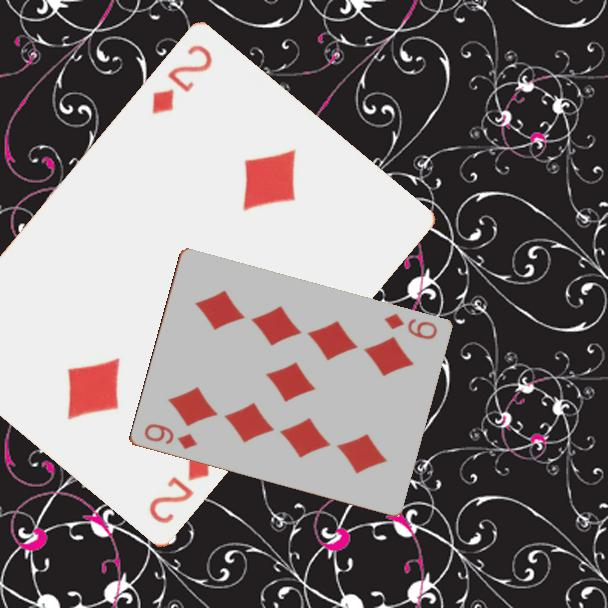d02: (145, 451, 213, 528), (148, 41, 216, 118)
d09: (380, 310, 440, 343), (140, 420, 199, 453)
